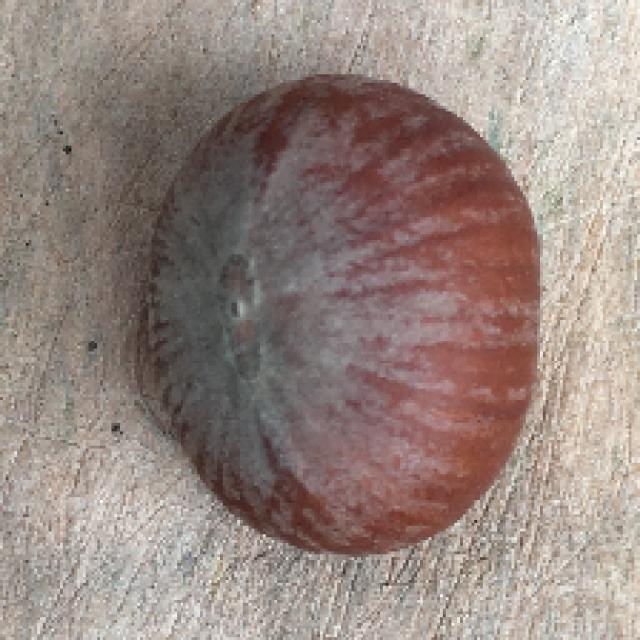qualityHazelnut: (152, 69, 546, 566)
